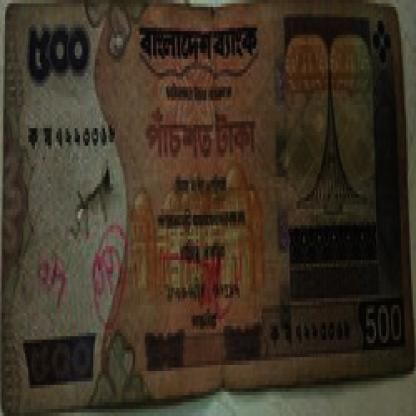500 taka: (136, 104, 266, 173), (25, 28, 103, 94)
currency: (0, 10, 415, 399)
